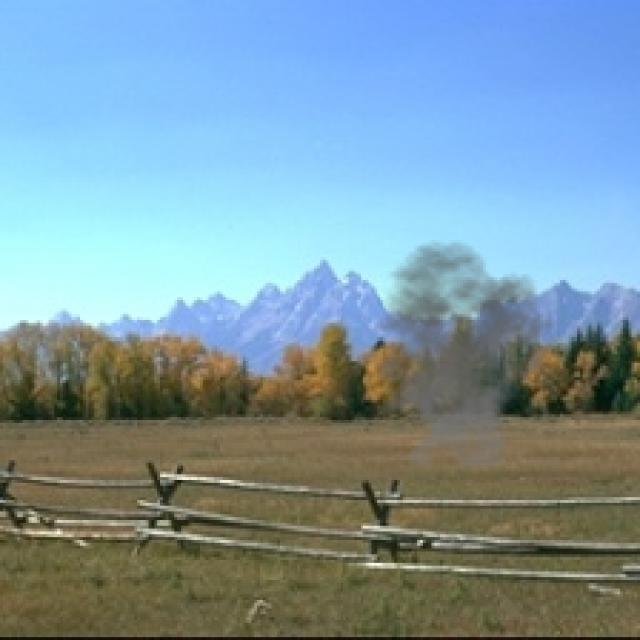Smoke: (352, 240, 557, 466)
